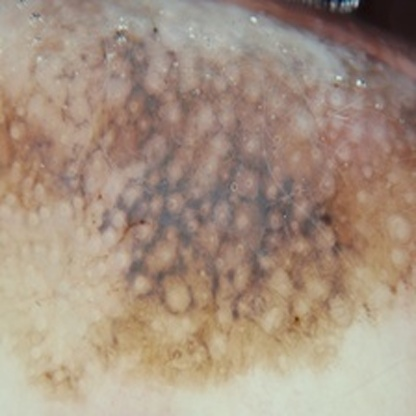malignant: (62, 67, 376, 342)
